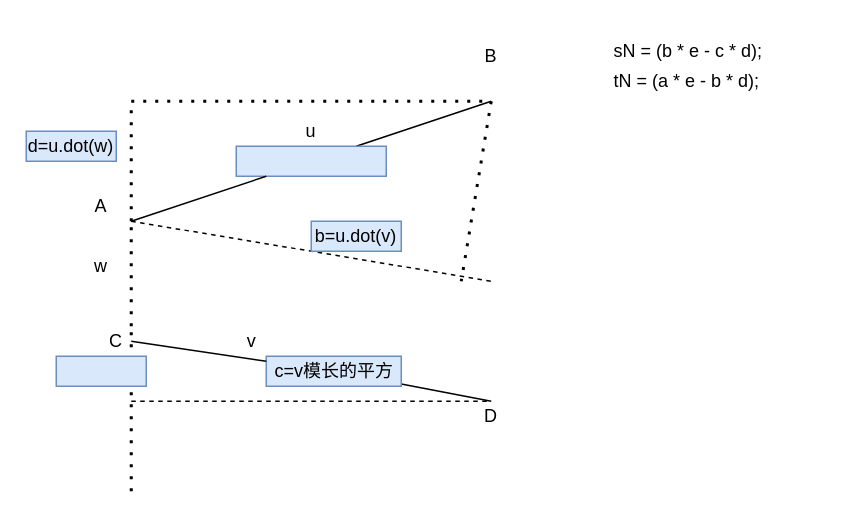
Image size: 848x519. Some labels were removed from this diagram. Each missing label, with the box of its shape:
a=u模长的平方: (235, 145, 386, 176)
e=v.dot(w): (55, 355, 146, 386)
